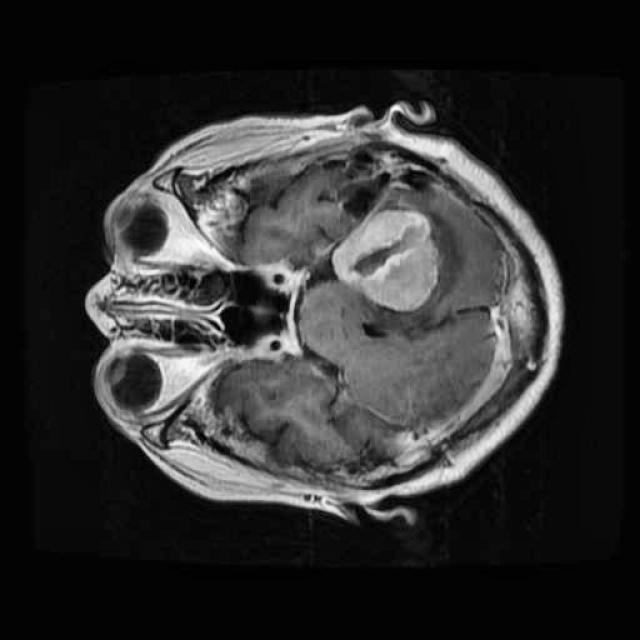Tumor: (312, 195, 456, 320)
